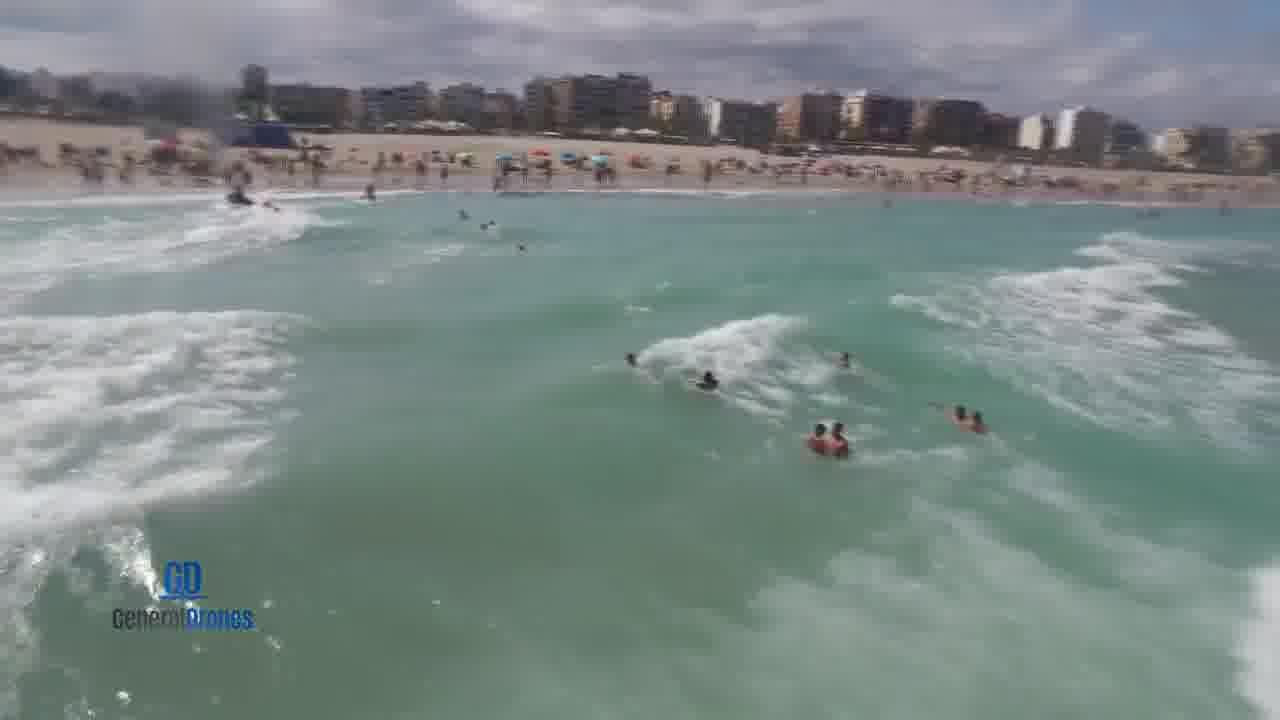swimmer: (822, 409, 860, 463), (964, 399, 1006, 447), (679, 362, 728, 399), (607, 345, 654, 379), (926, 395, 969, 429), (825, 340, 863, 376), (784, 420, 825, 453)
